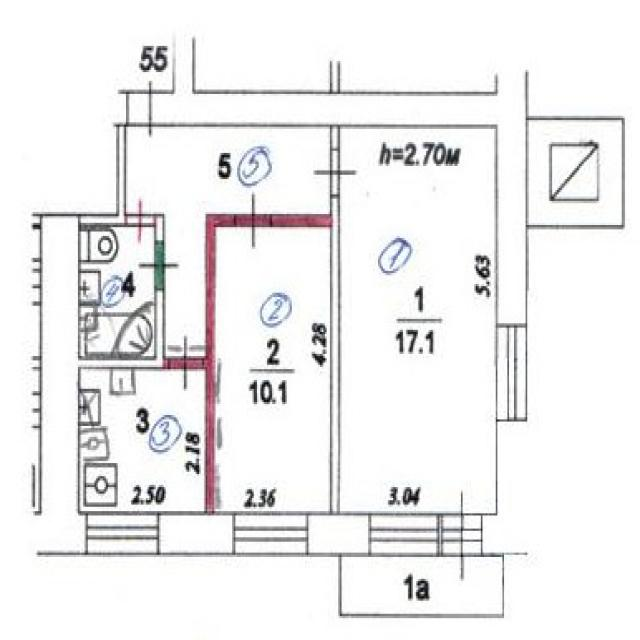Bathrooms: (80, 226, 155, 358), (30, 229, 40, 355)
Corridors: (127, 127, 330, 356), (527, 116, 625, 229), (340, 557, 504, 617)
Doors: (442, 489, 482, 584), (127, 80, 173, 139), (164, 333, 204, 392), (233, 193, 271, 255), (312, 149, 359, 197), (138, 240, 181, 292), (125, 197, 156, 244)
LBwalls: (172, 34, 528, 325), (33, 215, 87, 556), (482, 421, 527, 555), (159, 511, 234, 557), (308, 513, 370, 556), (114, 89, 127, 127), (439, 512, 443, 556)
Offices: (341, 127, 495, 513), (216, 229, 329, 511), (80, 369, 204, 513), (30, 371, 39, 512)
Walls: (271, 197, 340, 513), (202, 213, 234, 515), (78, 291, 165, 371), (78, 125, 127, 226), (329, 60, 341, 92), (155, 213, 165, 242), (330, 127, 340, 151), (31, 213, 40, 229), (31, 355, 40, 371)
Windows: (234, 511, 309, 555), (495, 324, 528, 421), (86, 512, 159, 555), (370, 512, 438, 555)
